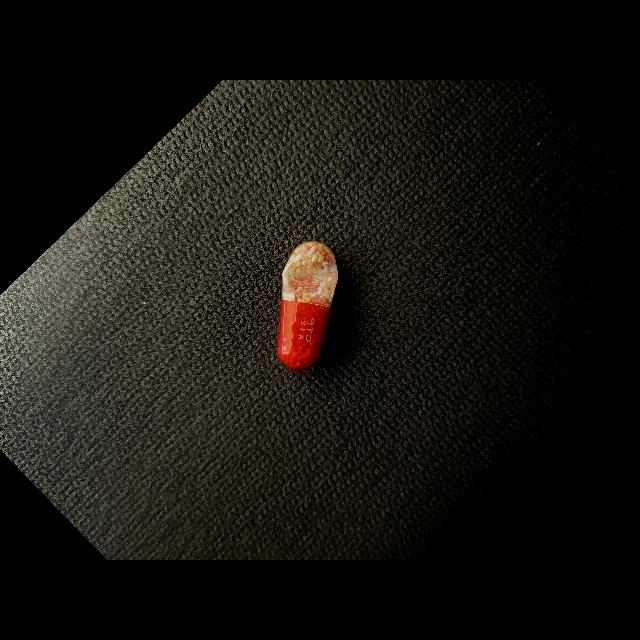Defective Capsule: (277, 241, 338, 370)
